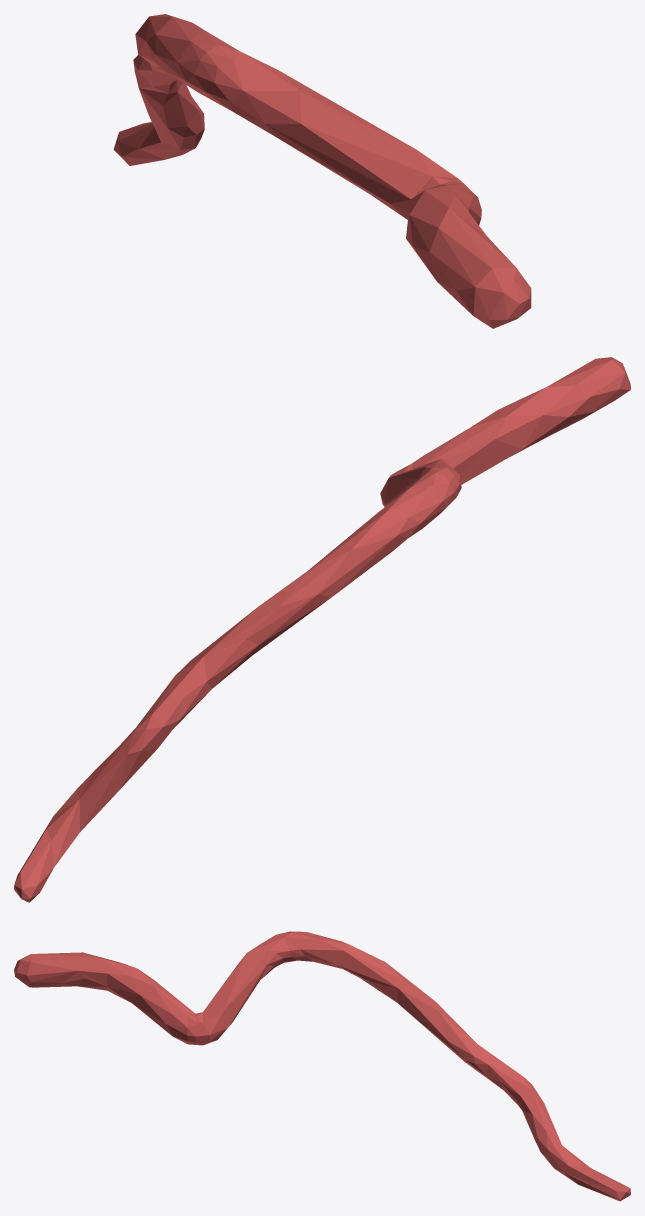
3 views of the same model, one above another, from view 1: azimuth 30°, elevation 25°; view 2: azimuth 150°, elevation 25°; view 3: azimuth 270°, elevation 25° (orthographic). The views are drawn at different scales.
Parts seen in each view (by area): view 1: FJ2650; view 2: FJ2650; view 3: FJ2650.
Part boxes in pixels (box(x1,y1,x2,y2)): FJ2650: box(113, 14, 531, 328); FJ2650: box(14, 357, 630, 902); FJ2650: box(14, 931, 630, 1201).
Size of the model in its own units: 4.53 by 6.34 by 16.86.
